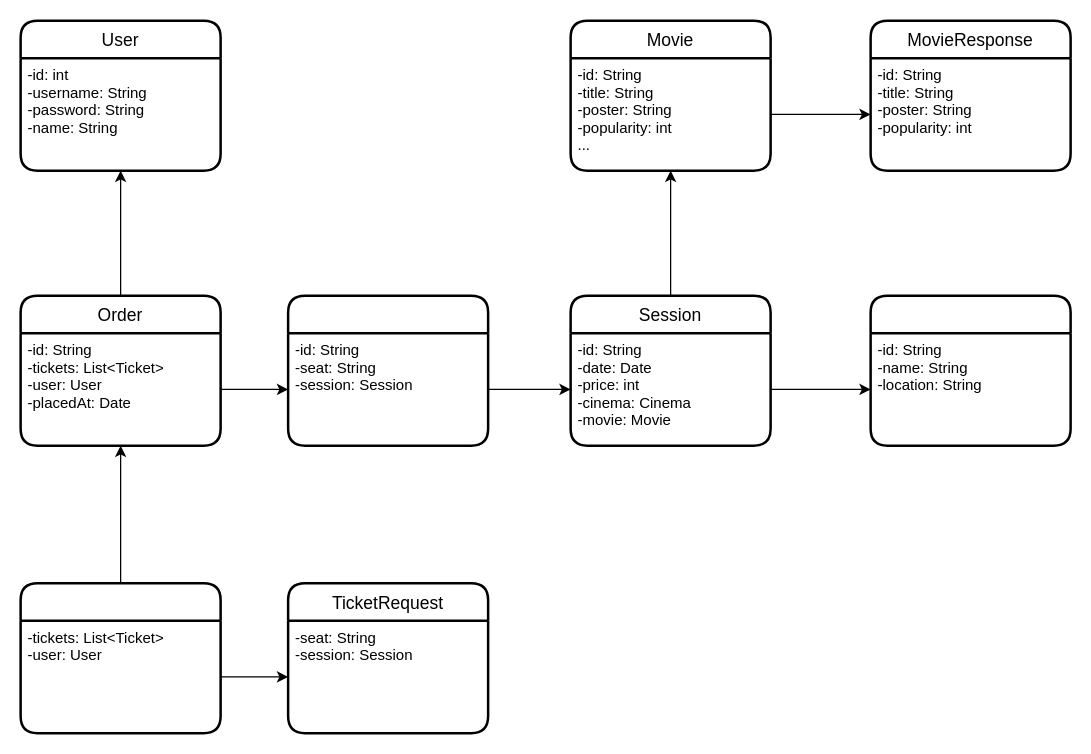
The diagram is 1091 pixels wide and 754 high, and some of its shapes have lost their labels. Each missing label, with the box of its shape:
Cinema: (869, 294, 1071, 446)
OrderRequest: (19, 581, 221, 734)
Ticket: (286, 294, 489, 446)
